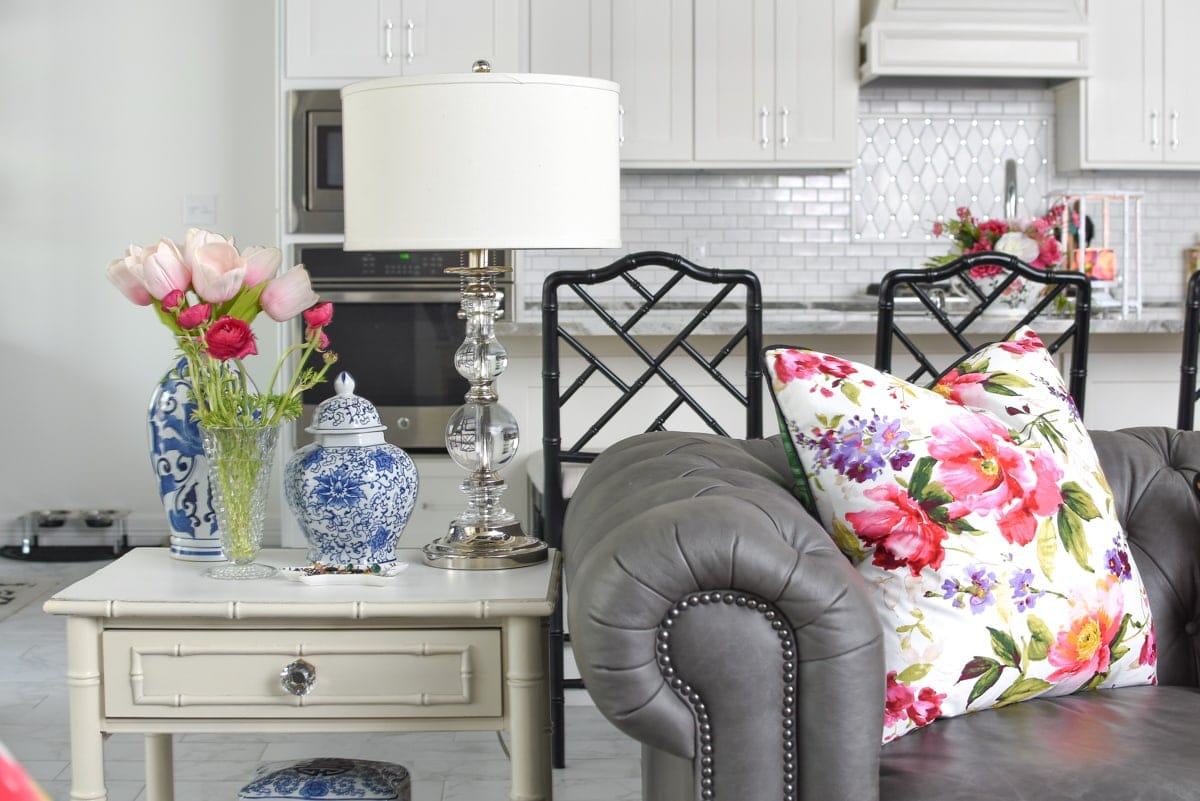putih: (65, 554, 553, 744), (344, 85, 624, 246)
